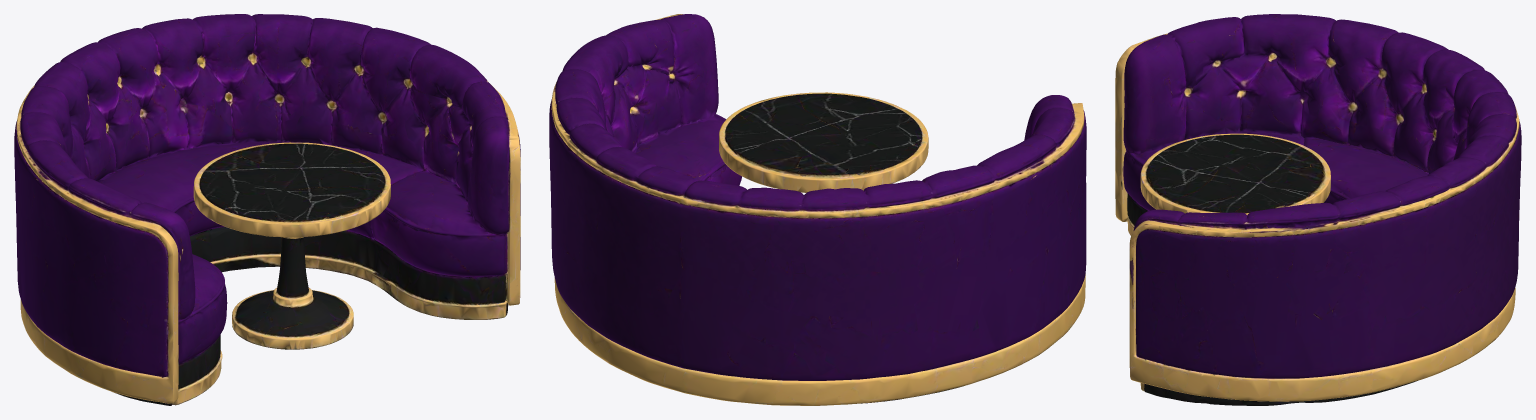
File: vip_booth.glb
The picture shows the model from 3 angles, left to right: view 1: azimuth 30°, elevation 25°; view 2: azimuth 150°, elevation 25°; view 3: azimuth 270°, elevation 25°; orthographic projection. The views are drawn at different scales.
Bounding box in the file's own units: 1.9 × 0.8324 × 1.55.
Materials: 1 (1 with a texture image).
